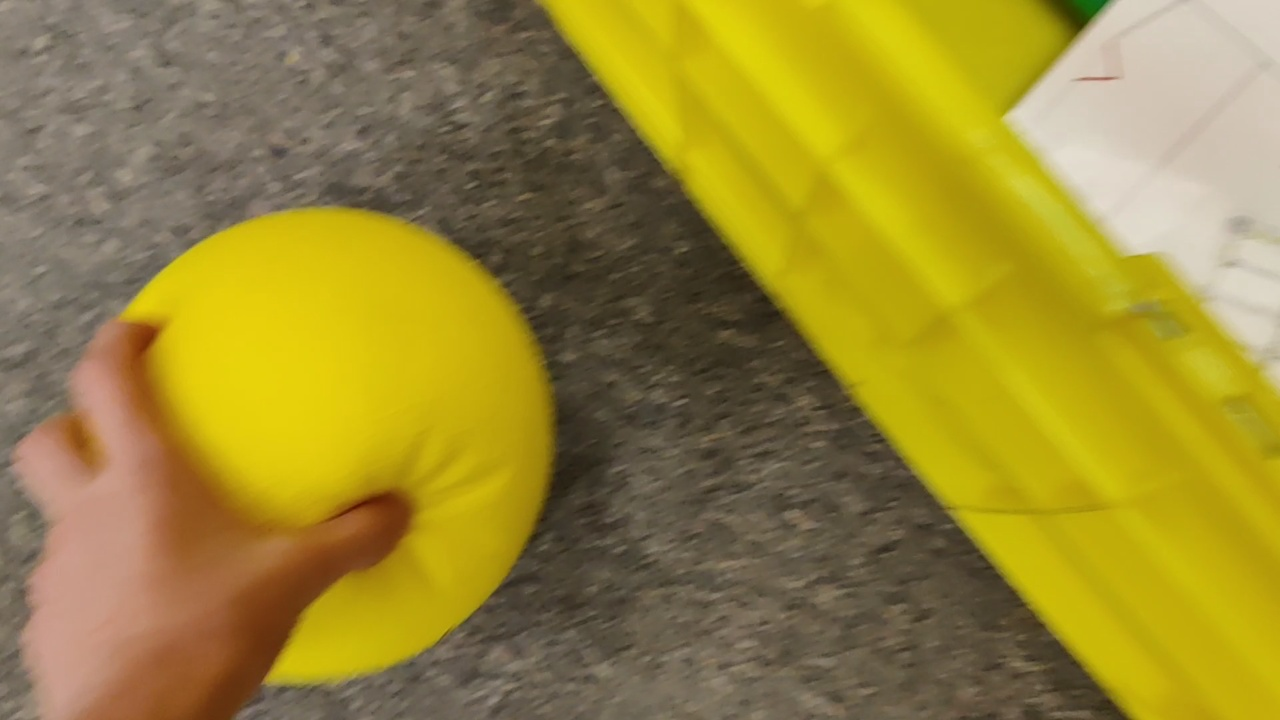Ball: (108, 208, 555, 680)
